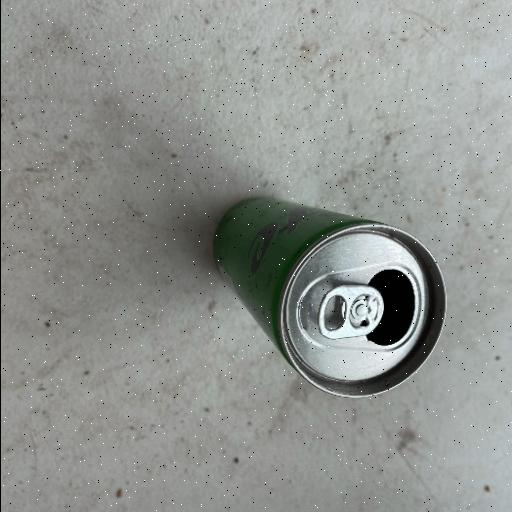Metal: (210, 194, 448, 400)
